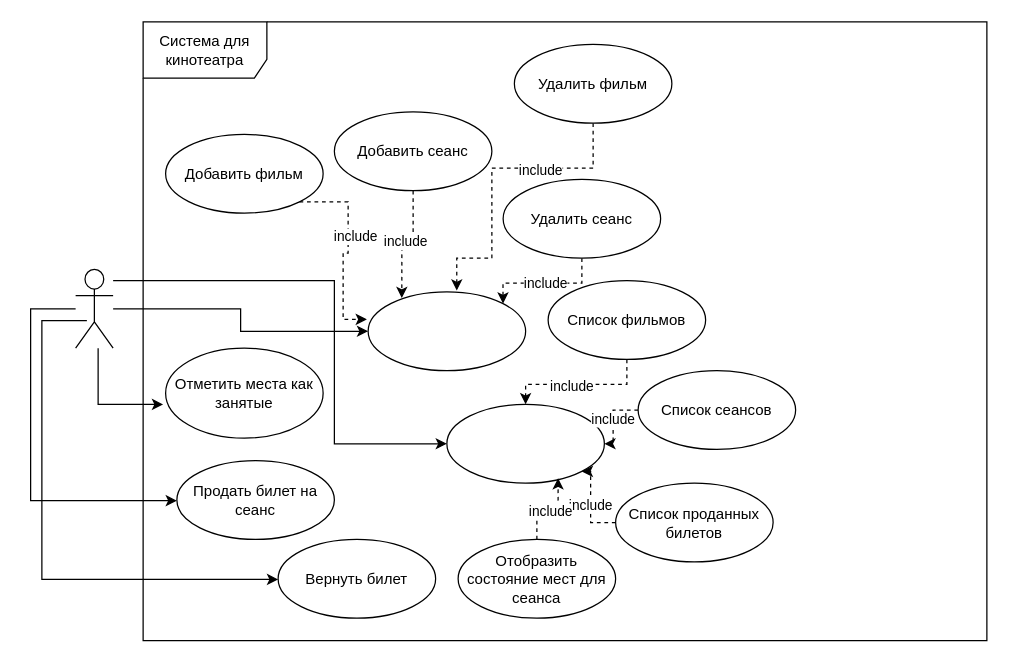
Some shapes in this 1009 by 663 pixel diagram are drawn without their labels. Here are the shapes that lost their labels. From the top down, the centre of each, then its label:
At (93,308): "Работник кинотеатра".
At (446,331): "Редактировать фильм или сеанс".
At (525,443): "Отобразить состояние".
